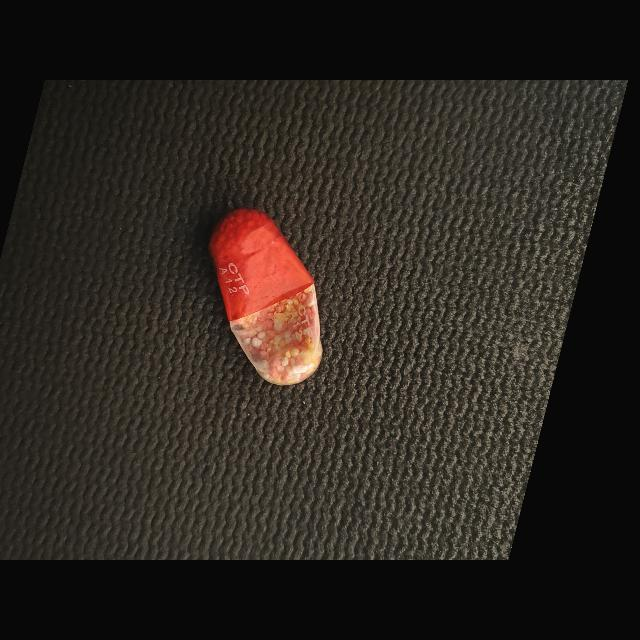Defective Capsule: (209, 208, 323, 386)
